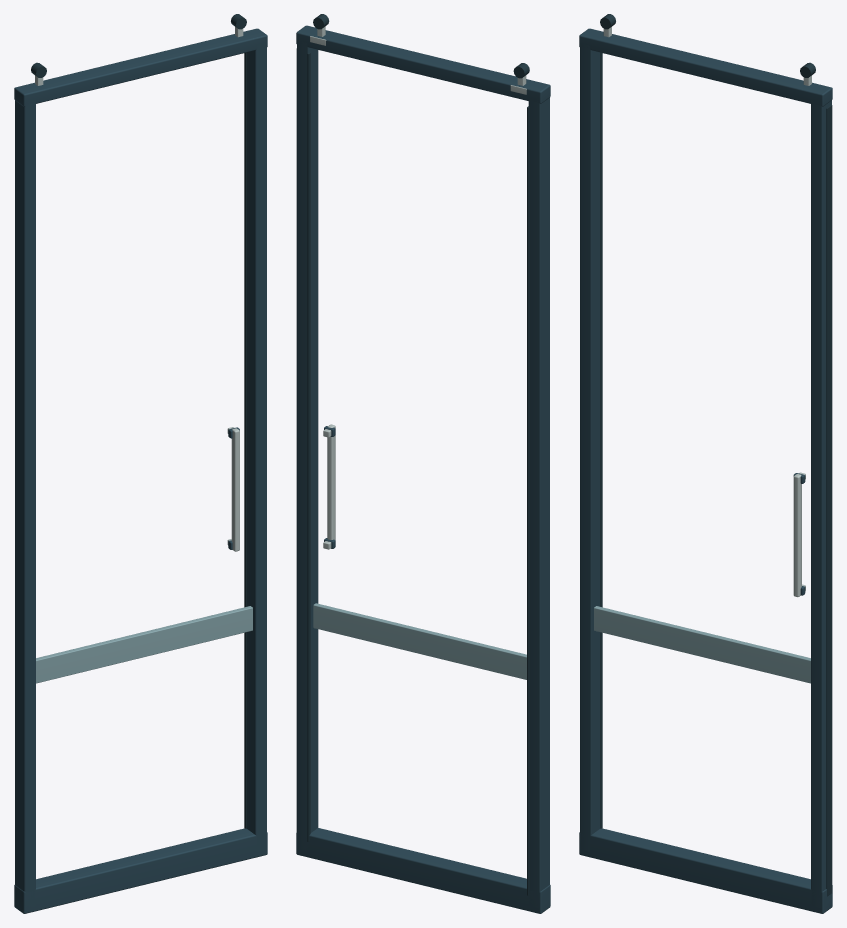
File: door-left.glb
3 views of the same model, side by side, from view 1: azimuth 30°, elevation 25°; view 2: azimuth 150°, elevation 25°; view 3: azimuth 330°, elevation 25° (orthographic).
Visible parts, largest first — view 1: Extruded door stile.004, Door safety band.002, Glass channel rubber.004, Handle.002; view 2: Extruded door stile.004, Glass channel rubber.004, Door safety band.002, Handle.002; view 3: Extruded door stile.004, Glass channel rubber.004, Door safety band.002, Handle.002.
Boxes of the visible parts, x1,y1,x2,y2 form: Extruded door stile.004: (14, 28, 267, 913); Door safety band.002: (36, 606, 252, 683); Glass channel rubber.004: (31, 14, 246, 828); Handle.002: (35, 27, 243, 551); Extruded door stile.004: (296, 25, 550, 913); Glass channel rubber.004: (296, 14, 529, 895); Door safety band.002: (313, 603, 526, 679); Handle.002: (310, 26, 526, 549); Extruded door stile.004: (579, 28, 832, 913); Glass channel rubber.004: (600, 14, 832, 896); Door safety band.002: (594, 606, 810, 683); Handle.002: (603, 27, 811, 597).
Size of the model in its own units: 1.1 by 3.61 by 0.084.
